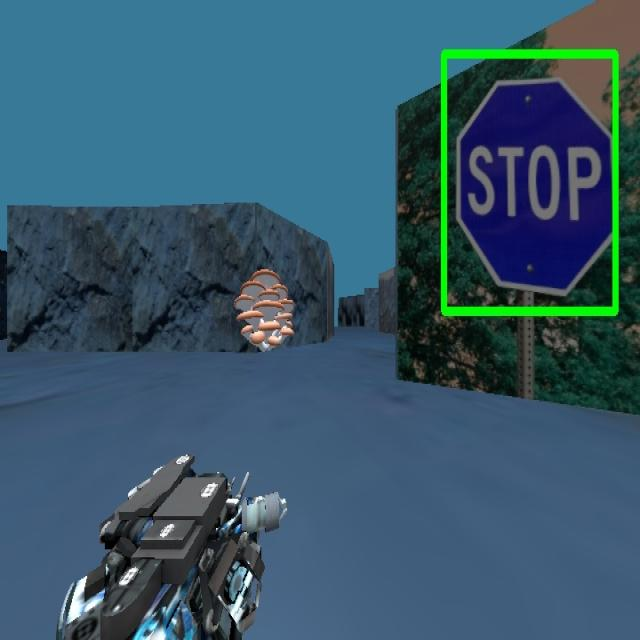Diamon: (439, 47, 620, 317)
Mushroom: (233, 267, 294, 352)
